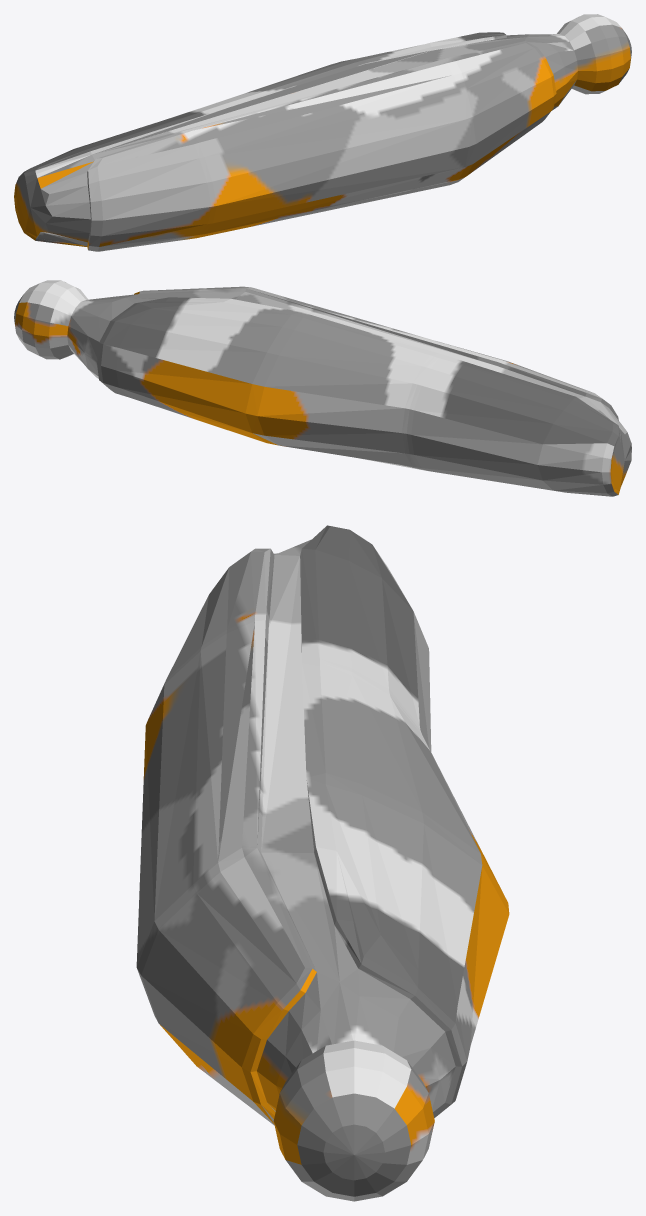
File: RightUpperArm.obj
3 views of the same model, one above another, from view 1: azimuth 30°, elevation 25°; view 2: azimuth 150°, elevation 25°; view 3: azimuth 270°, elevation 25° (orthographic). The views are drawn at different scales.
Parts seen in each view (by area): view 1: RightUpperArm_Mesh.035; view 2: RightUpperArm_Mesh.035; view 3: RightUpperArm_Mesh.035.
Part boxes in pixels (x1=…): RightUpperArm_Mesh.035: x1=14, y1=14, x2=631, y2=251; RightUpperArm_Mesh.035: x1=14, y1=280, x2=631, y2=496; RightUpperArm_Mesh.035: x1=136, y1=525, x2=509, y2=1201.
Size of the model in its own units: 0.3407 by 0.0713 by 0.0918.
Materials: 1 (1 with a texture image).
